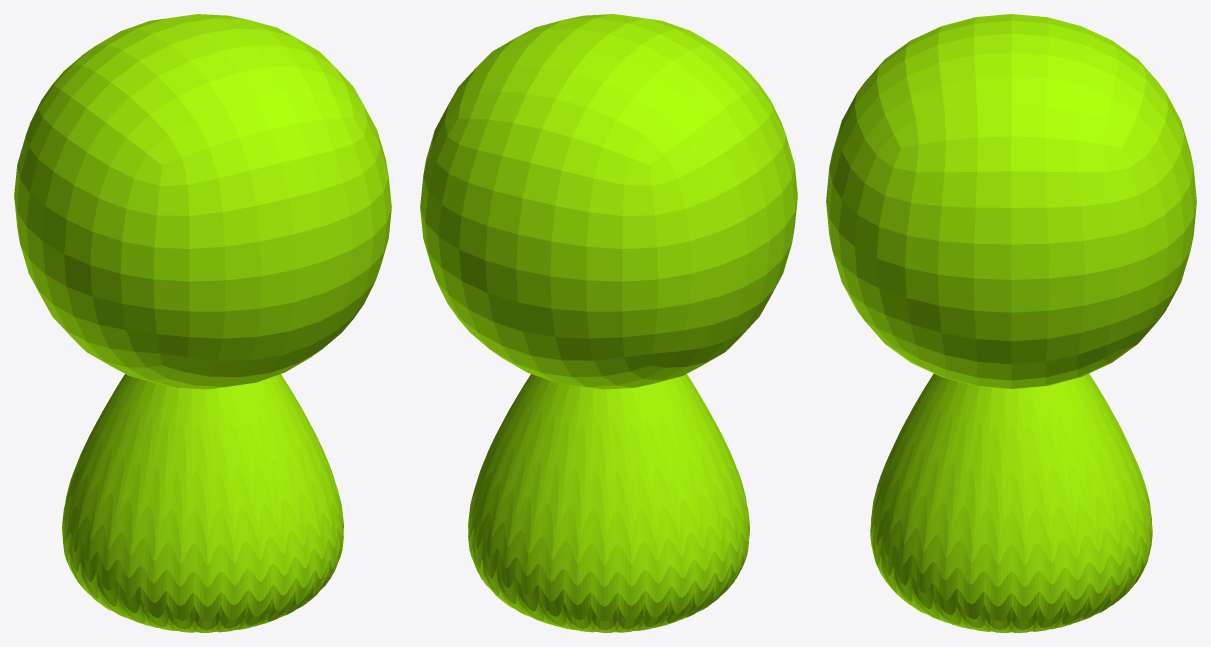
The model's file is Target Yellow.obj.
3 views of the same model, side by side, from view 1: azimuth 30°, elevation 25°; view 2: azimuth 150°, elevation 25°; view 3: azimuth 270°, elevation 25° (orthographic).
Parts seen in each view (by area): view 1: Cube; view 2: Cube; view 3: Cube.
Boxes of the visible parts, x1,y1,x2,y2 form: Cube: (14, 14, 391, 632); Cube: (420, 14, 797, 632); Cube: (826, 14, 1196, 632).
Size of the model in its own units: 1.68 by 2.92 by 1.68.
1 material, 1 textured.
